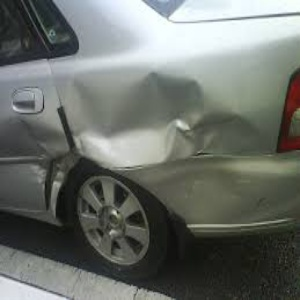bumper: (60, 69, 219, 173)
